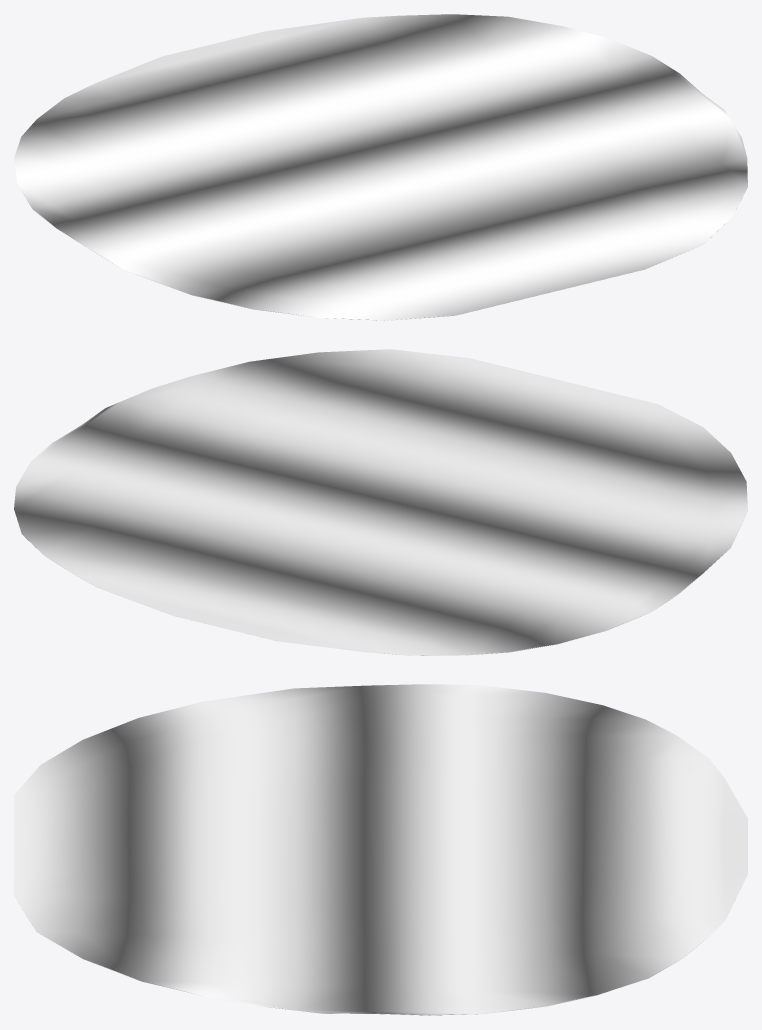
The model's file is Level 154 unroll astronaut helmet visor.fbx.
3 renders of one model, top to bottom at view 1: azimuth 30°, elevation 25°; view 2: azimuth 150°, elevation 25°; view 3: azimuth 270°, elevation 25°, orthographic. The views are drawn at different scales.
Parts seen in each view (by area): view 1: Blend; view 2: Blend; view 3: Blend.
Boxes of the visible parts, bbox=[...] form: Blend: bbox=[14, 14, 747, 320]; Blend: bbox=[14, 349, 747, 655]; Blend: bbox=[14, 684, 747, 1015].
Size of what is drawn, in the model's own units: 543 by 0.513 by 508.
